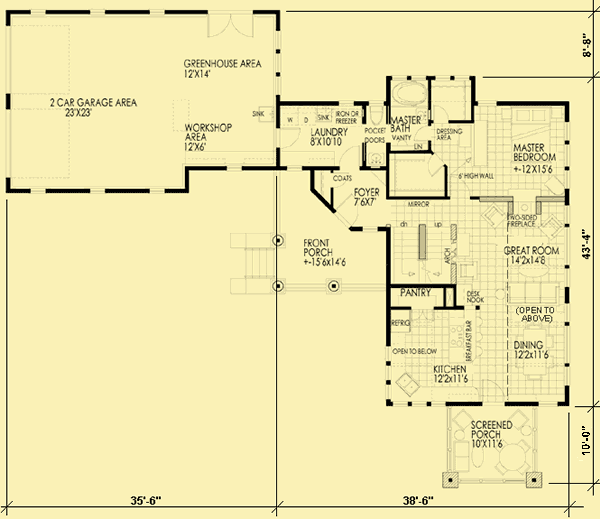bed: (508, 105, 556, 165)
dining table: (511, 322, 560, 384)
door: (204, 8, 259, 40), (334, 193, 360, 231), (337, 143, 362, 173), (478, 378, 505, 405), (274, 124, 302, 150), (423, 151, 446, 178), (413, 123, 437, 144), (430, 101, 451, 124)
large sink: (367, 104, 386, 127)
large sofa: (506, 281, 560, 307), (451, 440, 470, 474)
round table: (492, 437, 533, 478)
small sofa: (478, 203, 508, 230), (538, 213, 563, 241), (508, 408, 530, 433), (452, 408, 473, 430)
stairs: (391, 219, 454, 287)
tub: (391, 80, 429, 106)
twin sink: (392, 373, 423, 397)
windows: (226, 230, 291, 295), (382, 344, 396, 404), (391, 397, 449, 411), (219, 161, 249, 175), (432, 73, 470, 84), (84, 183, 112, 197), (389, 74, 431, 83), (25, 6, 49, 18), (144, 6, 168, 18), (146, 186, 170, 197), (86, 6, 110, 17), (28, 186, 47, 197)
